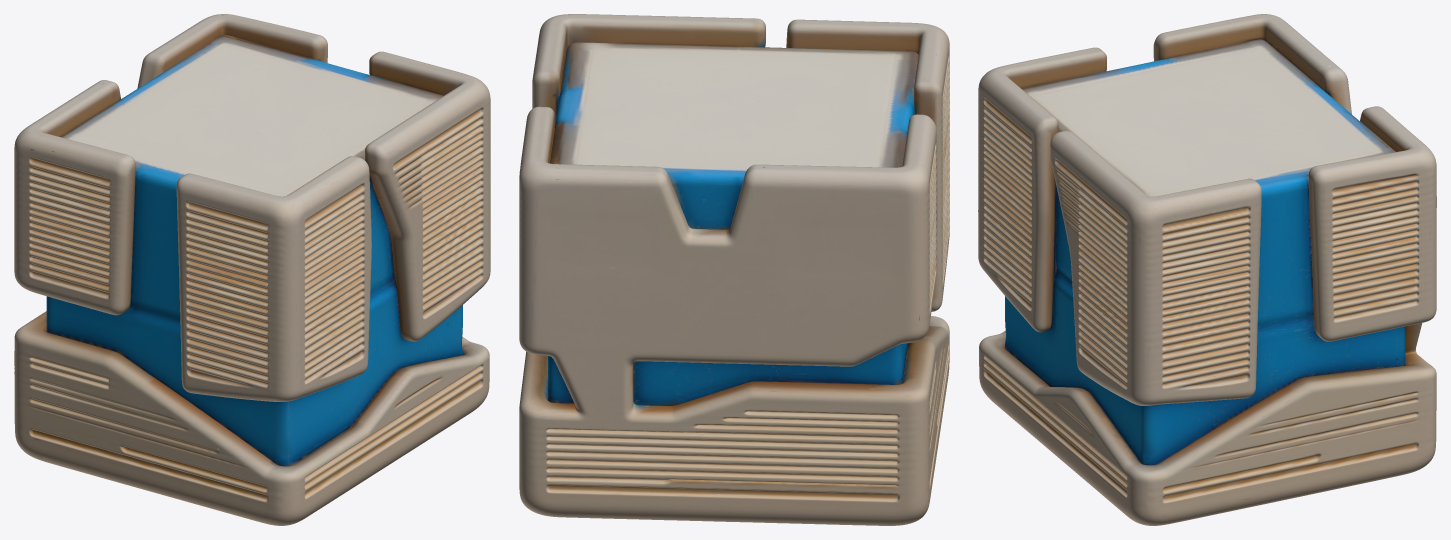
3 renders of one model, left to right at view 1: azimuth 30°, elevation 25°; view 2: azimuth 150°, elevation 25°; view 3: azimuth 270°, elevation 25°, orthographic. The views are drawn at different scales.
Parts seen in each view (by area): view 1: node_0.002; view 2: node_0.002; view 3: node_0.002.
Boxes of the visible parts, left/top/right/bottom form: node_0.002: left=14, top=14, right=490, bottom=525; node_0.002: left=519, top=14, right=949, bottom=525; node_0.002: left=978, top=14, right=1436, bottom=525.
Size of the model in its own units: 0.3826 by 0.2937 by 0.3697.
Materials: 1 (1 with a texture image).
